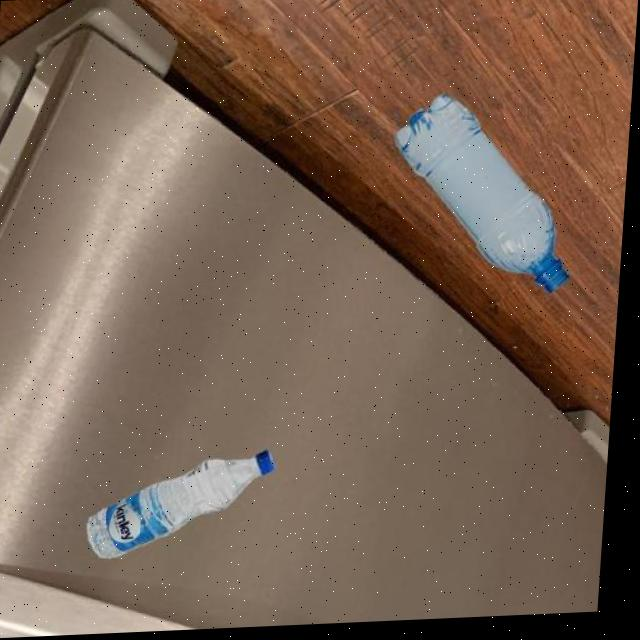bottle: (387, 90, 586, 306), (91, 451, 285, 562)
